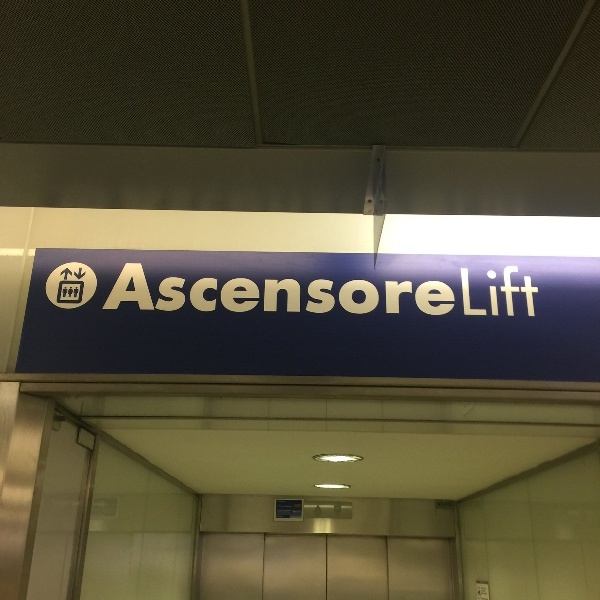text: (129, 263, 144, 320), (145, 263, 160, 320), (161, 263, 176, 320), (177, 263, 192, 320), (193, 263, 208, 320), (209, 263, 224, 320), (225, 263, 240, 320), (241, 263, 256, 320), (257, 263, 272, 320), (273, 263, 288, 320), (289, 263, 304, 320), (305, 263, 320, 320), (321, 263, 336, 320), (337, 263, 352, 320), (353, 263, 368, 320), (369, 263, 384, 320), (385, 263, 400, 320), (401, 263, 416, 320), (417, 263, 432, 320), (433, 263, 448, 320), (449, 263, 464, 320), (465, 263, 480, 320), (481, 263, 496, 320), (497, 263, 512, 320), (513, 263, 528, 320), (529, 263, 542, 320), (289, 501, 302, 518), (277, 501, 288, 518), (125, 263, 128, 320)
